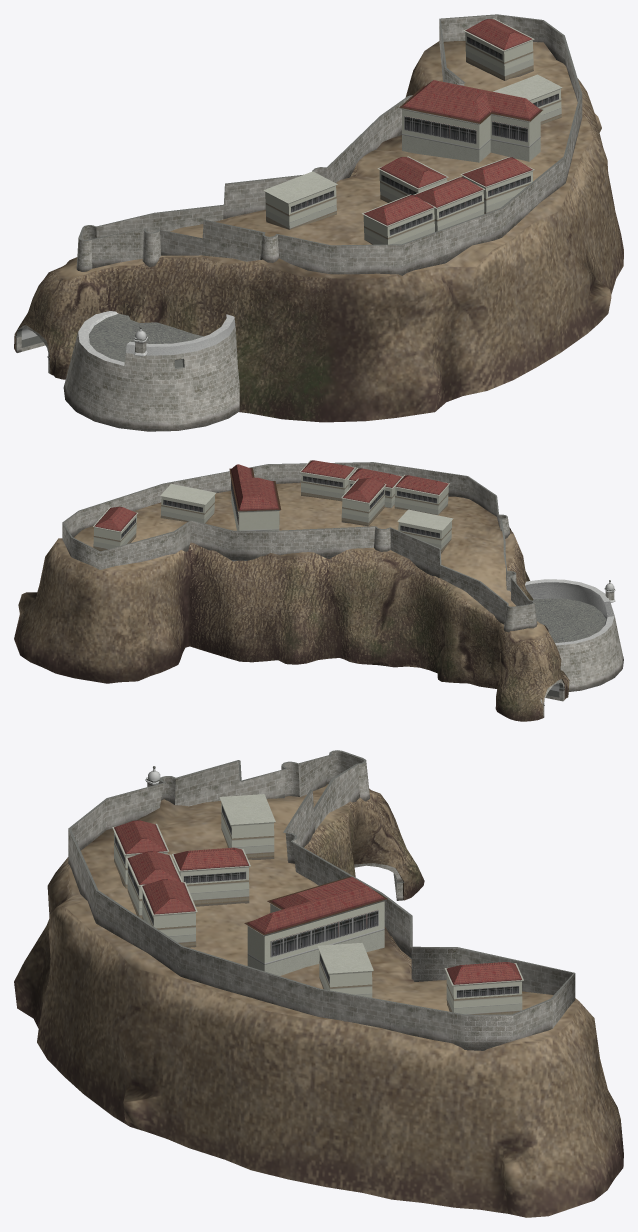
The model's file is Monaco_track_landmark_03.dae.
3 views of the same model, one above another, from view 1: azimuth 30°, elevation 25°; view 2: azimuth 150°, elevation 25°; view 3: azimuth 270°, elevation 25° (orthographic). The views are drawn at different scales.
Visible parts, largest first — view 1: Monaco_track_landmark_03; view 2: Monaco_track_landmark_03; view 3: Monaco_track_landmark_03.
Boxes of the visible parts, x1,y1,x2,y2 form: Monaco_track_landmark_03: (14,14,623,431); Monaco_track_landmark_03: (14,460,623,721); Monaco_track_landmark_03: (14,750,623,1217).
Bounding box in the file's own units: 32.67 × 23.28 × 8.73.
4 materials, 4 textured.
